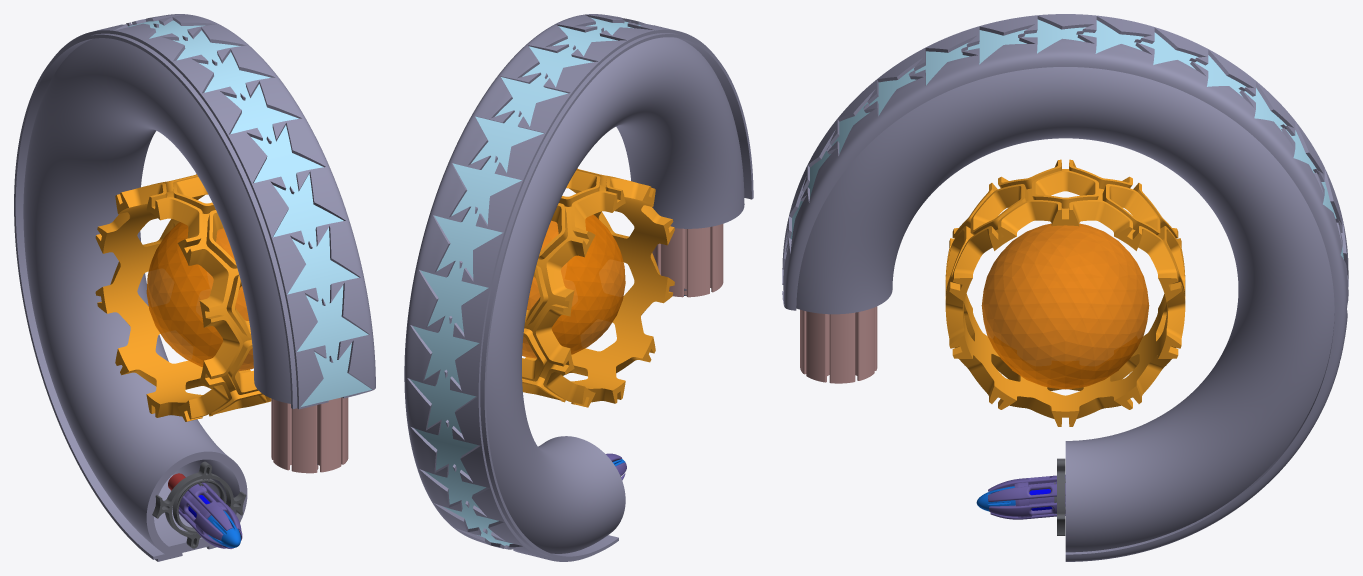
Rendered from Black Hole Energy Harvester.glb.
3 renders of one model, left to right at view 1: azimuth 30°, elevation 25°; view 2: azimuth 150°, elevation 25°; view 3: azimuth 270°, elevation 25°, orthographic. The views are drawn at different scales.
Visible parts, largest first — view 1: ring (×2), Unique02, the diamond, back end, front (×2), hyperbolic sphincter (×2); view 2: ring (×2), Unique02, the diamond, back end; view 3: ring (×2), Unique02, the diamond, back end, front, hyperbolic sphincter.
Boxes of the visible parts, left/top/right/bottom form: ring (×2): left=14, top=14, right=375, bottom=561; Unique02: left=95, top=174, right=271, bottom=421; the diamond: left=146, top=222, right=253, bottom=371; back end: left=271, top=397, right=348, bottom=473; front (×2): left=178, top=482, right=242, bottom=548; hyperbolic sphincter (×2): left=152, top=461, right=246, bottom=548; ring (×2): left=404, top=14, right=753, bottom=561; Unique02: left=522, top=168, right=674, bottom=407; the diamond: left=522, top=214, right=625, bottom=358; back end: left=652, top=224, right=723, bottom=297; ring (×2): left=782, top=14, right=1348, bottom=561; Unique02: left=945, top=159, right=1185, bottom=426; the diamond: left=981, top=223, right=1149, bottom=389; back end: left=800, top=306, right=877, bottom=383; front: left=988, top=475, right=1065, bottom=519; hyperbolic sphincter: left=1057, top=458, right=1065, bottom=535.
Size of the model in its own units: 0.2103 by 0.66 by 0.66.
